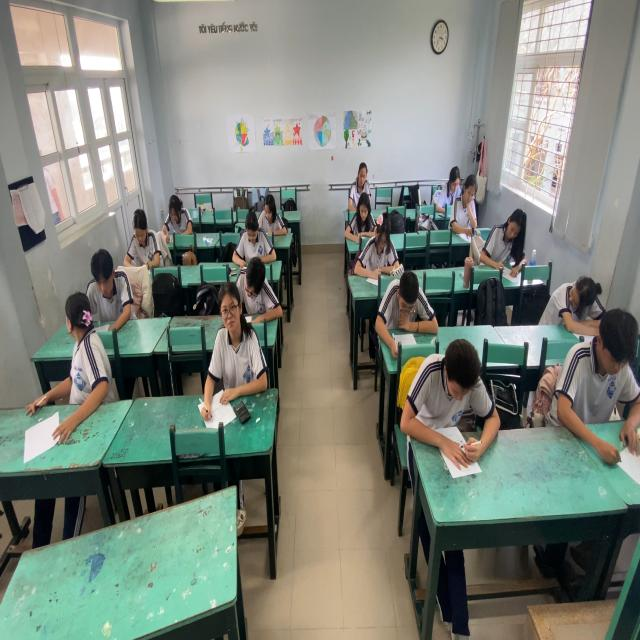cheating: (51, 295, 112, 412), (541, 260, 605, 333)
not_cheating: (557, 302, 637, 446), (424, 333, 487, 484), (212, 293, 266, 391), (89, 250, 131, 325), (387, 266, 427, 344), (489, 196, 525, 276), (237, 259, 274, 318), (361, 210, 393, 276), (448, 168, 478, 235), (128, 210, 159, 272), (161, 195, 197, 246), (234, 197, 266, 251), (254, 191, 287, 237), (346, 187, 372, 242), (348, 155, 373, 207), (438, 160, 462, 214)
